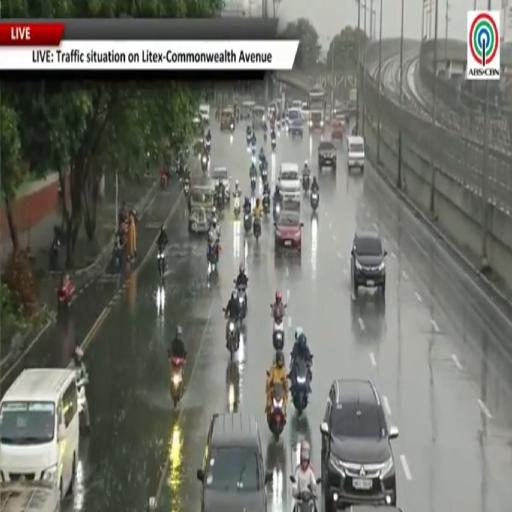bus: (309, 86, 325, 130)
car: (0, 368, 79, 499), (321, 379, 398, 511), (197, 412, 272, 511), (351, 231, 386, 294), (274, 210, 303, 251), (278, 163, 300, 197), (211, 167, 230, 203), (348, 136, 365, 172), (318, 141, 336, 170), (288, 108, 303, 137), (350, 505, 405, 511), (331, 119, 345, 140), (199, 104, 209, 124), (290, 101, 302, 113), (301, 102, 308, 121)
jeepney: (0, 480, 60, 511), (188, 178, 215, 234), (252, 105, 266, 130), (221, 108, 234, 131), (240, 101, 255, 119)
motorcycle: (291, 359, 310, 413), (267, 383, 285, 440), (170, 358, 185, 407), (77, 374, 90, 430), (57, 281, 74, 313), (293, 489, 317, 511), (227, 319, 239, 361), (273, 314, 284, 349), (49, 236, 60, 270), (207, 243, 218, 275), (237, 286, 247, 319), (273, 324, 284, 350), (113, 245, 122, 271), (216, 187, 225, 211), (158, 248, 165, 278), (253, 217, 261, 241), (262, 194, 270, 215), (310, 192, 318, 212), (234, 196, 241, 218), (273, 202, 281, 221), (244, 213, 251, 234), (303, 174, 310, 193), (201, 153, 208, 172), (160, 173, 167, 189), (183, 180, 190, 196), (261, 166, 267, 184), (251, 175, 256, 193), (206, 139, 211, 153), (271, 137, 276, 151), (276, 120, 282, 131), (251, 140, 255, 156), (246, 134, 251, 146), (230, 121, 235, 133), (264, 132, 267, 143)
